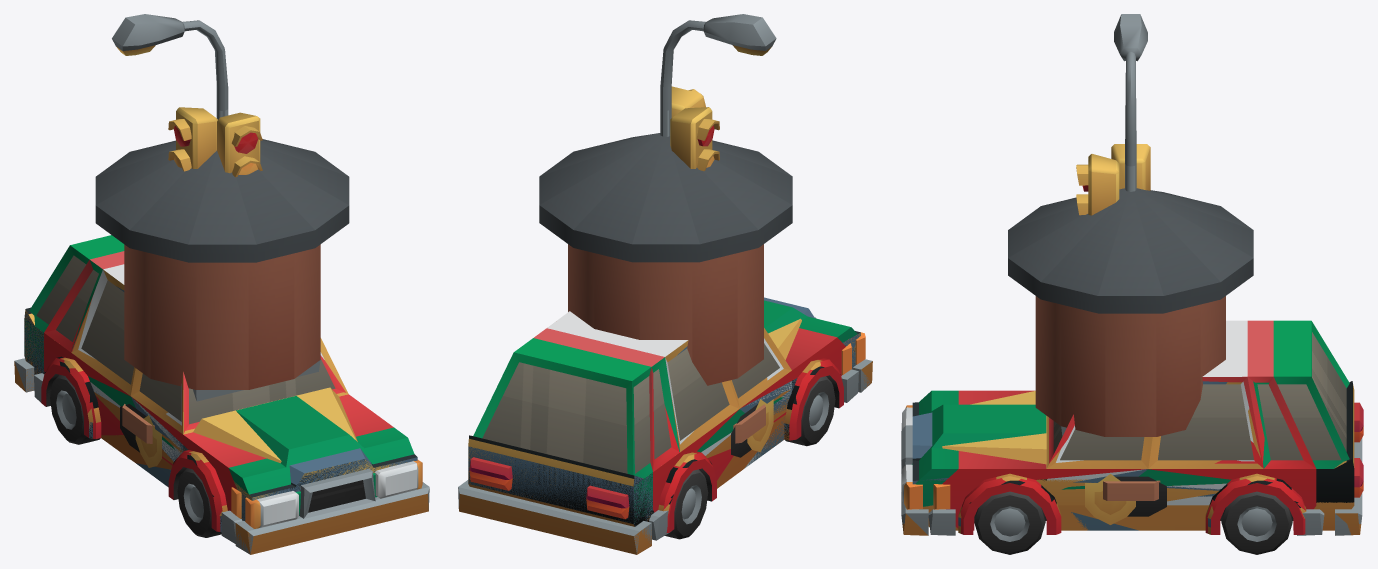
The model's file is citybits.glb.
3 renders of one model, left to right at view 1: azimuth 30°, elevation 25°; view 2: azimuth 150°, elevation 25°; view 3: azimuth 270°, elevation 25°, orthographic. The views are drawn at different scales.
Parts seen in each view (by area): view 1: watertower, Cube.1023, Cube.13730, Cube.13728, Cube.13729, Cube.1022, trafficlight_A, streetlight, car_hatchback_wheel_front_right, car_hatchback_wheel_rear_right, bench; view 2: watertower, Cube.13728, Cube.1023, Cube.13730, Cube.1022, Cube.13729, streetlight, trafficlight_A, car_hatchback_wheel_front_right, car_hatchback_wheel_rear_right, bench; view 3: watertower, Cube.13730, Cube.13728, Cube.1023, Cube.1022, Cube.13729, trafficlight_A, car_hatchback_wheel_front_left, car_hatchback_wheel_rear_left, streetlight, bench.
Boxes of the visible parts, box(x1,y1,x2,y2) form: watertower: box(95, 139, 349, 401); Cube.1023: box(14, 269, 428, 554); Cube.13730: box(34, 251, 393, 543); Cube.13728: box(24, 235, 414, 515); Cube.13729: box(14, 286, 429, 554); Cube.1022: box(19, 264, 429, 546); trafficlight_A: box(168, 107, 262, 177); streetlight: box(112, 14, 228, 119); car_hatchback_wheel_front_right: box(177, 468, 221, 537); car_hatchback_wheel_rear_right: box(50, 374, 90, 444); bench: box(122, 404, 154, 443); watertower: box(539, 133, 792, 385); Cube.13728: box(473, 300, 857, 521); Cube.1023: box(459, 318, 872, 554); Cube.13730: box(534, 328, 858, 540); Cube.1022: box(468, 311, 869, 543); Cube.13729: box(458, 297, 872, 553); streetlight: box(660, 14, 776, 136); trafficlight_A: box(660, 86, 719, 171); car_hatchback_wheel_front_right: box(785, 376, 835, 446); car_hatchback_wheel_rear_right: box(667, 469, 708, 539); bench: box(733, 404, 765, 443); watertower: box(1008, 188, 1253, 436); Cube.13730: box(928, 320, 1324, 535); Cube.13728: box(912, 320, 1349, 527); Cube.1023: box(901, 382, 1363, 535); Cube.1022: box(901, 320, 1362, 524); Cube.13729: box(901, 381, 1363, 535); trafficlight_A: box(1076, 144, 1150, 215); car_hatchback_wheel_front_left: box(974, 491, 1045, 554); car_hatchback_wheel_rear_left: box(1221, 491, 1292, 554); streetlight: box(1114, 14, 1147, 189); bench: box(1103, 480, 1160, 500).
Bounding box in the file's own units: 0.4989 × 1.02 × 0.9381.
Materials: 1 (1 with a texture image).
